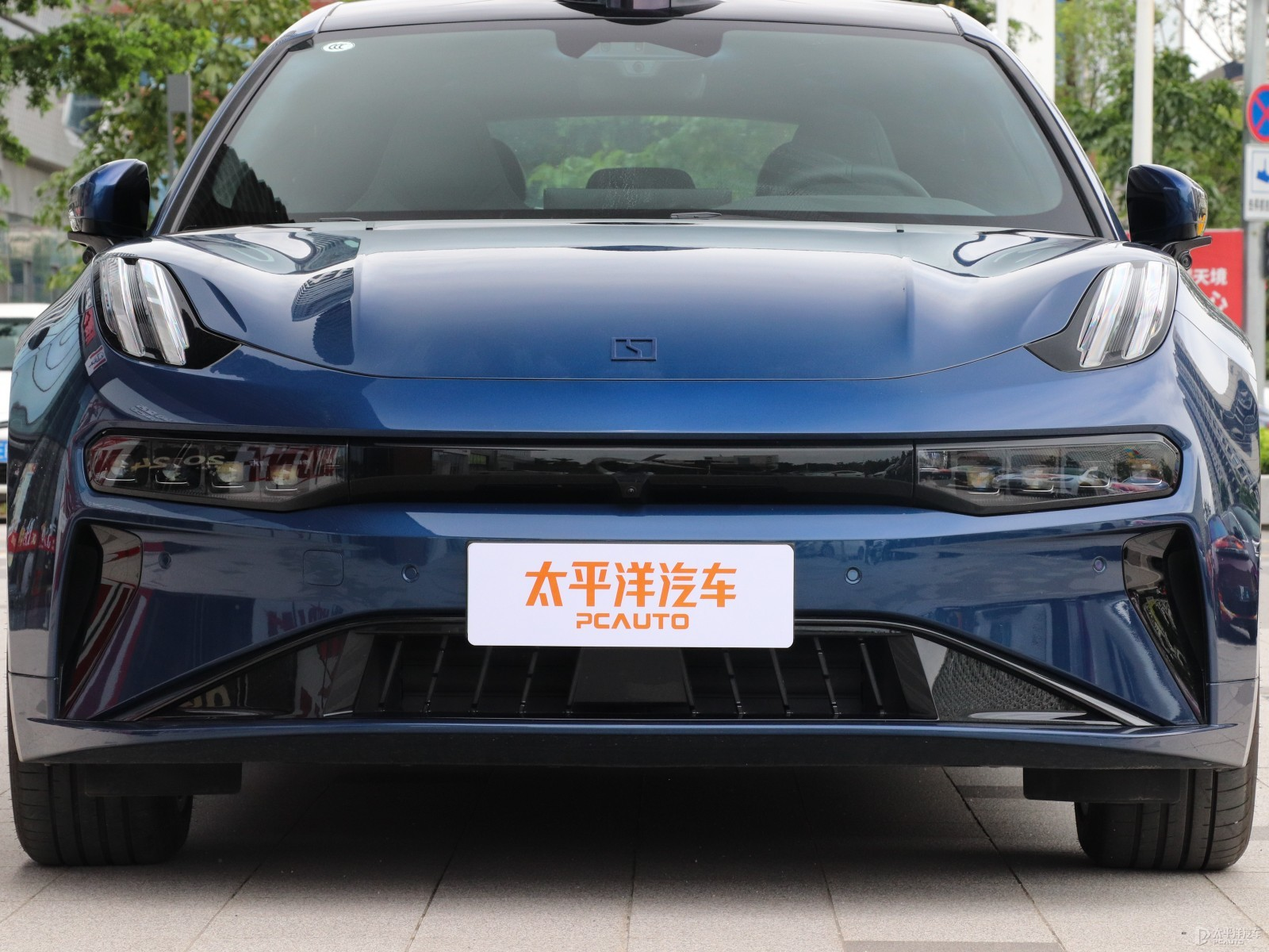ZEEKR: (611, 337, 657, 359)
